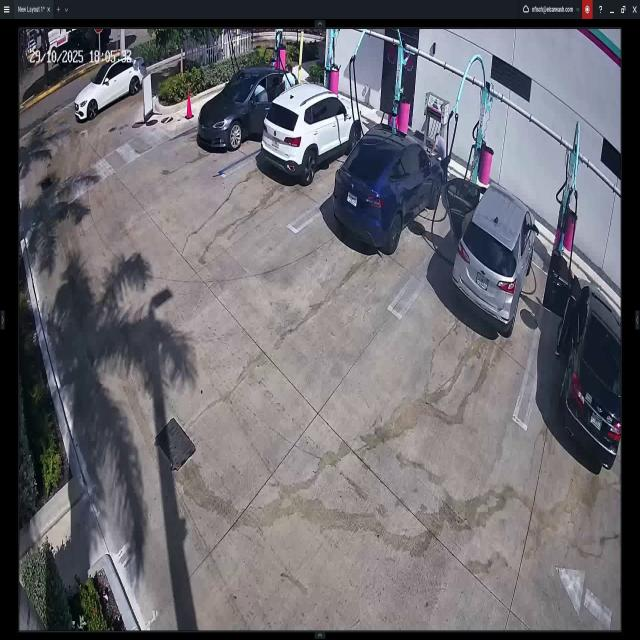Car: (551, 249, 621, 466), (444, 186, 536, 332), (338, 127, 442, 254), (263, 91, 361, 182), (196, 69, 298, 149), (76, 55, 146, 123)
